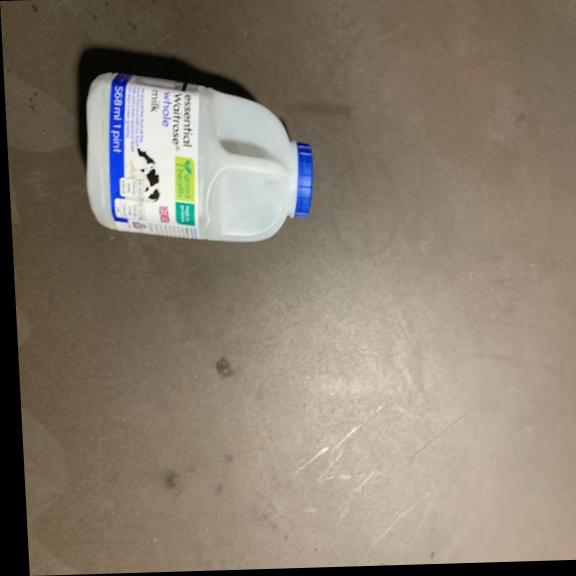Plastik: (80, 61, 321, 244)
